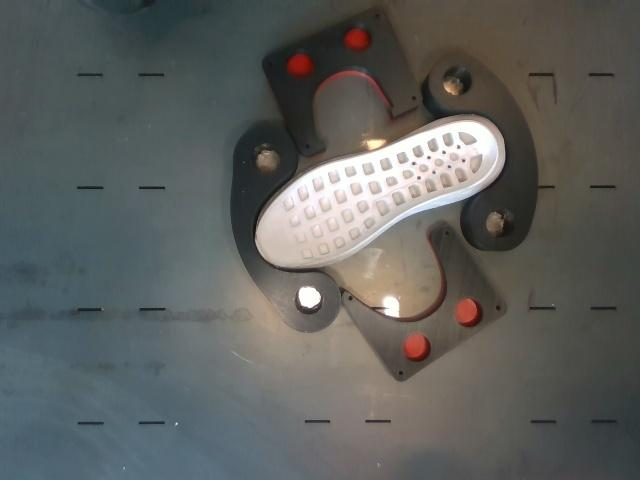shoes: (257, 121, 498, 267)
